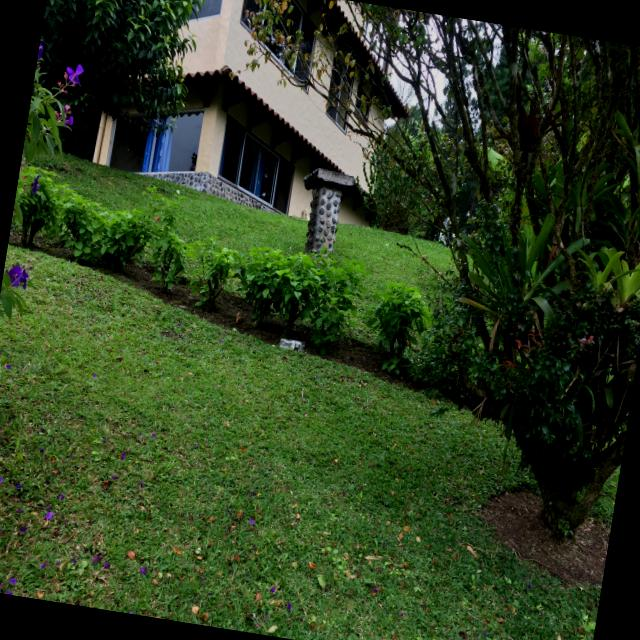Clear plastic bottle: (280, 339, 305, 351)
